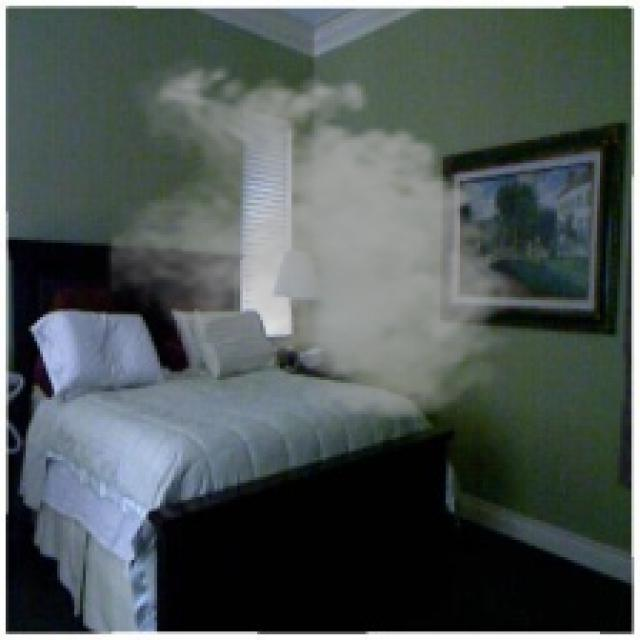smoke: (106, 54, 528, 429)
